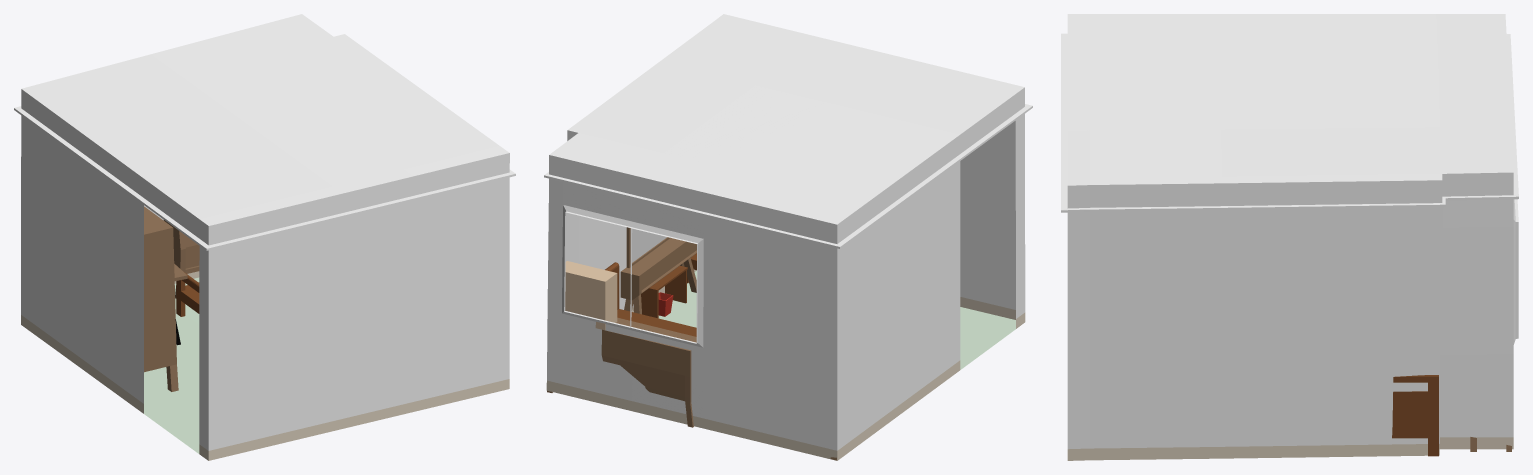
3 renders of one model, left to right at view 1: azimuth 30°, elevation 25°; view 2: azimuth 150°, elevation 25°; view 3: azimuth 270°, elevation 25°, orthographic. The views are drawn at different scales.
Parts seen in each view (by area): view 1: Cube, Cube.008, Cube.003, Cube.004; view 2: Cube, Cube.003, Cube.001, Cube.011, Cube.006, Cube.004, Cube.002; view 3: Cube, Cube.004.
Boxes of the visible parts, x1,y1,x2,y2 form: Cube: [14, 14, 515, 460]; Cube.008: [144, 206, 178, 391]; Cube.003: [163, 220, 199, 298]; Cube.004: [176, 272, 199, 316]; Cube: [544, 14, 1032, 460]; Cube.003: [547, 317, 696, 427]; Cube.001: [620, 238, 696, 314]; Cube.011: [565, 261, 617, 330]; Cube.006: [641, 265, 687, 318]; Cube.004: [605, 262, 696, 336]; Cube.002: [626, 227, 670, 267]; Cube: [1061, 14, 1518, 460]; Cube.004: [1392, 375, 1438, 456].
Bounding box in the file's own units: 962 × 710 × 1057.
